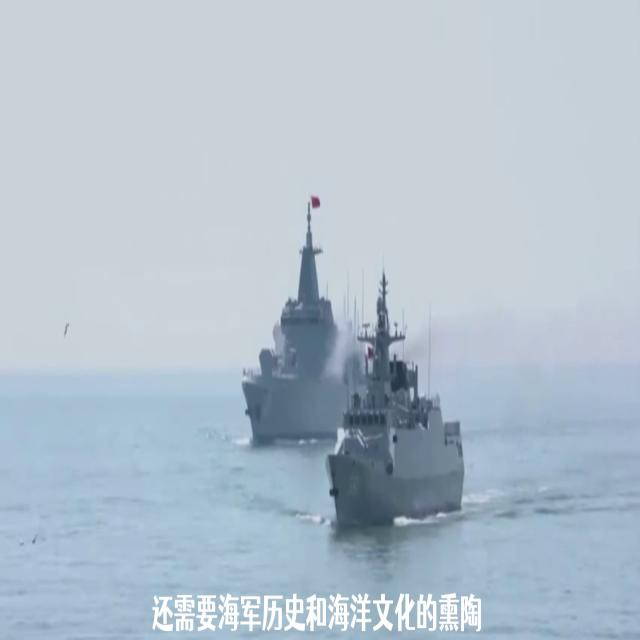navalvessels: (332, 269, 466, 529), (241, 189, 365, 435)
